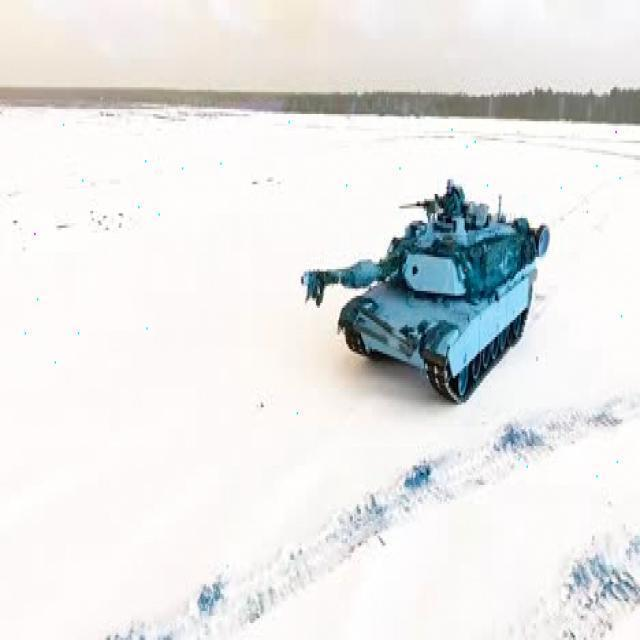MIL_MBT: (300, 180, 549, 404)
